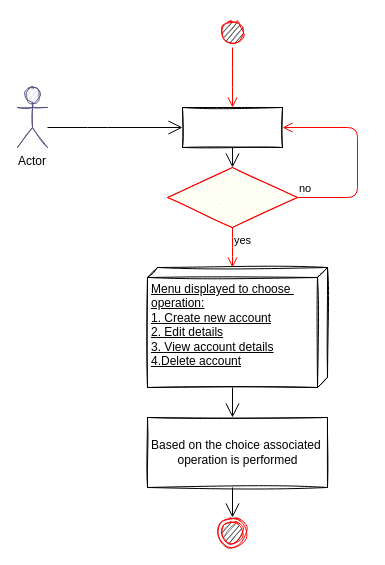
Image size: 385x565. Some labels were removed from this diagram. The centre of each missing label's shape, as x and y in pixels:
Actor enters password to login: pixel 232 127
password match: pixel 232 197
